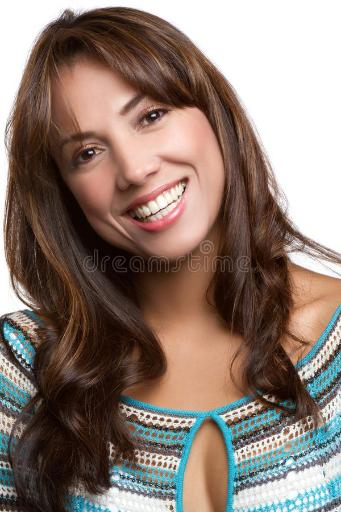left_eye: (134, 103, 176, 130)
left_lip_corner: (180, 174, 195, 192)
right_eye: (75, 147, 108, 167)
right_lip_corner: (116, 206, 136, 224)
